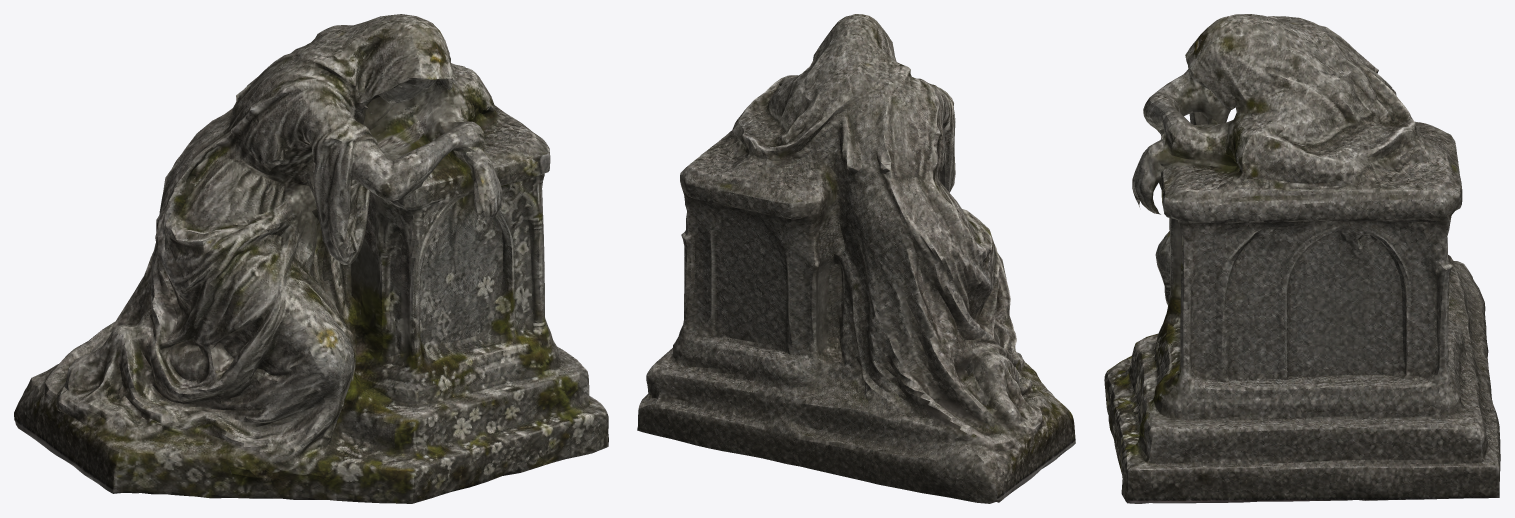
The picture shows the model from 3 angles, left to right: view 1: azimuth 30°, elevation 25°; view 2: azimuth 150°, elevation 25°; view 3: azimuth 270°, elevation 25°; orthographic projection. The views are drawn at different scales.
Bounding box in the file's own units: 1.86 × 1.75 × 1.5.
1 material, 1 textured.
